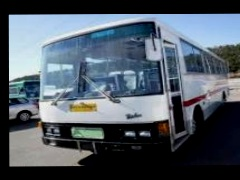bus: (37, 15, 233, 161)
